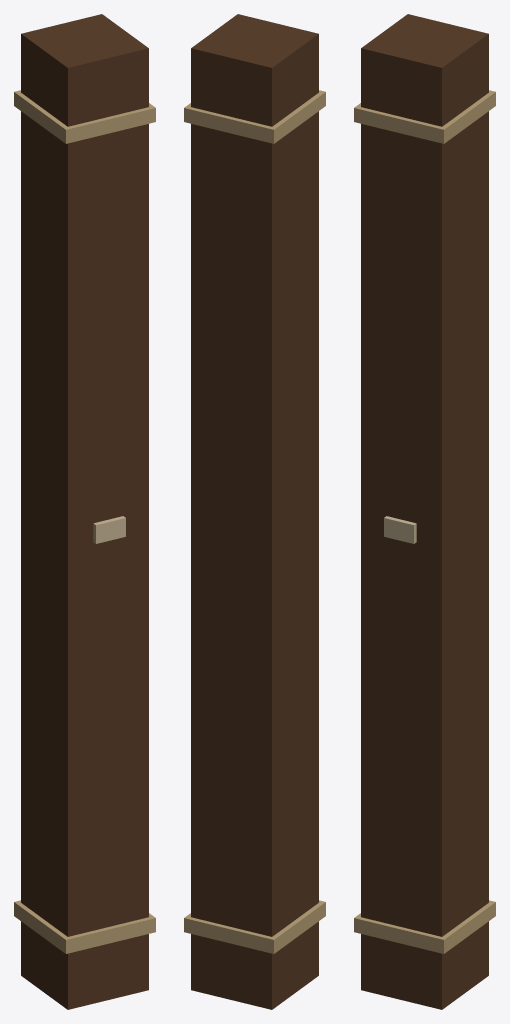
File: pillar_lod1.glb
The picture shows the model from 3 angles, left to right: view 1: azimuth 30°, elevation 25°; view 2: azimuth 150°, elevation 25°; view 3: azimuth 330°, elevation 25°; orthographic projection.
Visible parts, largest first — view 1: pillar_mesh; view 2: pillar_mesh; view 3: pillar_mesh.
Boxes of the visible parts, <box> form: pillar_mesh: <box>14,14,155,1009</box>; pillar_mesh: <box>184,14,325,1009</box>; pillar_mesh: <box>354,14,495,1009</box>.
Size of the model in its own units: 0.3 by 3 by 0.3.
